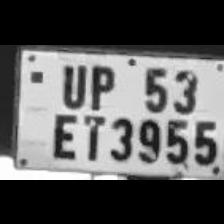3: (168, 65, 200, 111), (105, 109, 133, 161)
5: (189, 114, 219, 166), (138, 64, 170, 110), (161, 114, 189, 164)
9: (134, 112, 160, 160)
E: (46, 108, 80, 162)
P: (85, 60, 116, 108)
T: (76, 110, 106, 160)
U: (55, 58, 86, 106)
